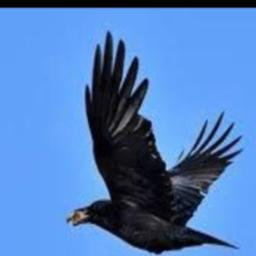Crow: (67, 30, 240, 252)
